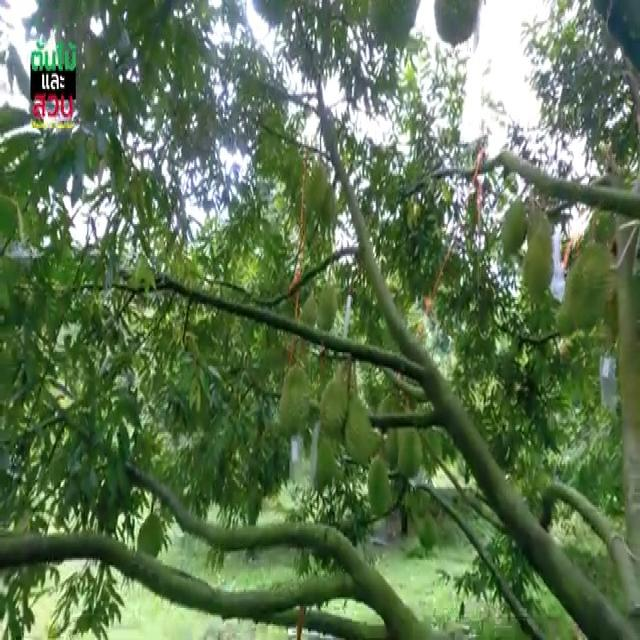durian: (557, 235, 619, 336), (518, 207, 556, 297), (276, 361, 312, 447), (343, 390, 381, 470), (433, 0, 484, 49), (392, 408, 424, 483), (315, 371, 349, 437), (367, 452, 395, 522), (498, 198, 529, 259), (302, 154, 333, 212), (136, 513, 165, 570), (314, 276, 338, 332)
